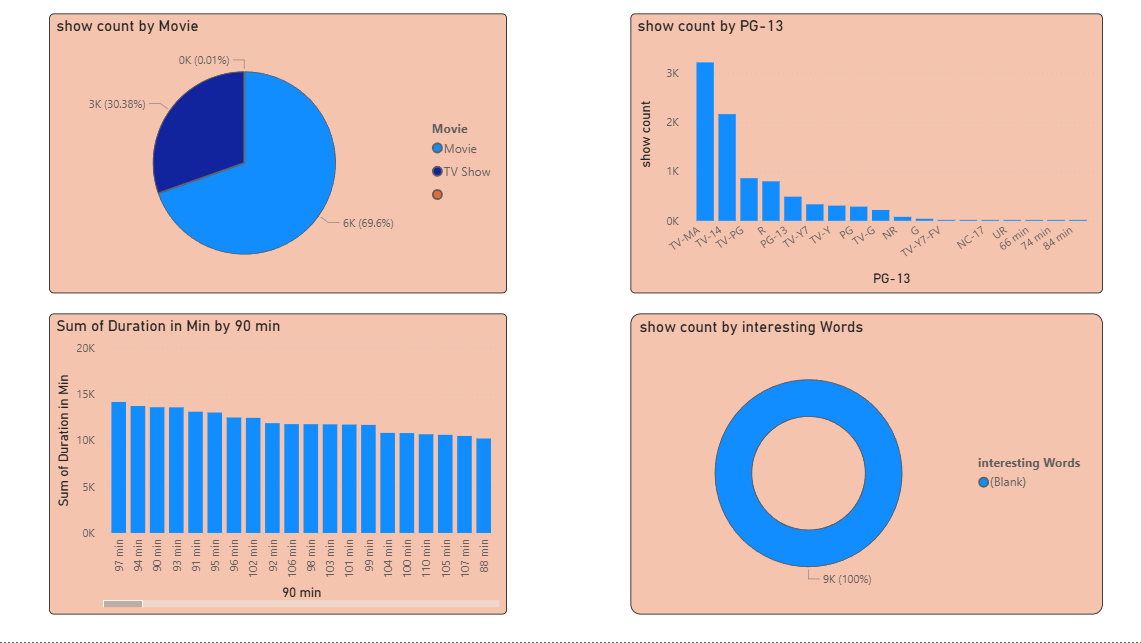

Layout of this report page (visuals, bound fields, positions):
{"tool":"powerbi","page":{"name":"Page 1","canvas":[1280,720],"ordinal":0},"visuals":[{"type":"pieChart","fields":{"Y":["netsflix-shows-kaggle.show count"],"Category":["netsflix-shows-kaggle.Movie"]},"box":[78.2,30.2,502.2,307.4],"z":0},{"type":"columnChart","fields":{"Y":["netsflix-shows-kaggle.show count"],"Category":["netsflix-shows-kaggle.PG-13"]},"box":[716.3,30.2,518.7,307.4],"z":1},{"type":"donutChart","fields":{"Category":["netsflix-shows-kaggle.interesting Words"],"Y":["netsflix-shows-kaggle.show count"]},"box":[716.3,359.5,518.7,330.7],"z":2},{"type":"columnChart","fields":{"Y":["Sum(netsflix-shows-kaggle.Duration in Min)"],"Category":["netsflix-shows-kaggle.90 min"]},"box":[78.2,359.5,502.2,330.7],"z":3}]}

Visuals, with their boxes in screenshot pixels (x1, y1, x2, y2), scaled from the page's 1280x720 canvas onto the 1141x643 screenshot:
pieChart - netsflix-shows-kaggle.show count x netsflix-shows-kaggle.Movie: rect(70, 27, 517, 301)
columnChart - netsflix-shows-kaggle.show count x netsflix-shows-kaggle.PG-13: rect(639, 27, 1101, 301)
donutChart - netsflix-shows-kaggle.interesting Words x netsflix-shows-kaggle.show count: rect(639, 321, 1101, 616)
columnChart - Sum(netsflix-shows-kaggle.Duration in Min) x netsflix-shows-kaggle.90 min: rect(70, 321, 517, 616)
